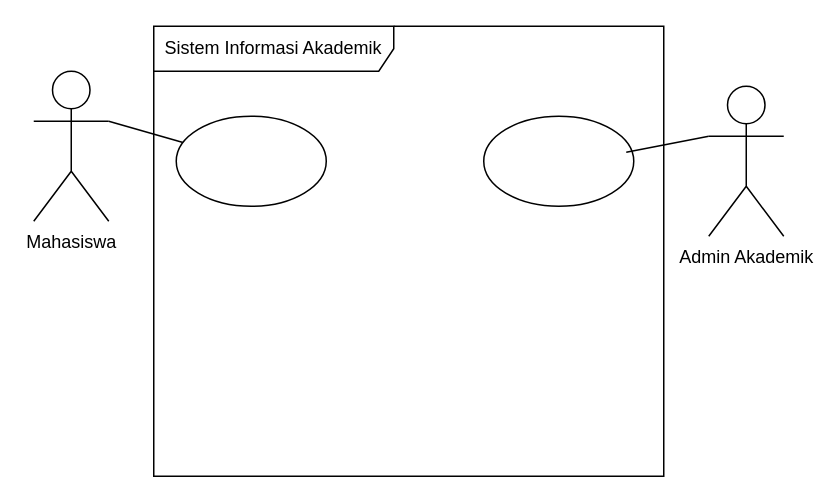
Some shapes in this 839 by 503 pixel diagram are drawn without their labels. Here are the shapes that lost their labels. From the top down, the centre of each, then its label:
(250,160): Melihat Jadwal
(558,160): Mengelola Jadwal
